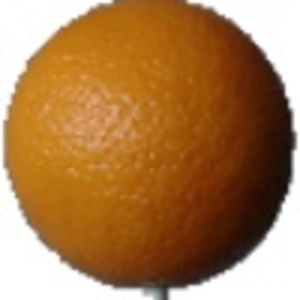laranja: (3, 2, 297, 289)
